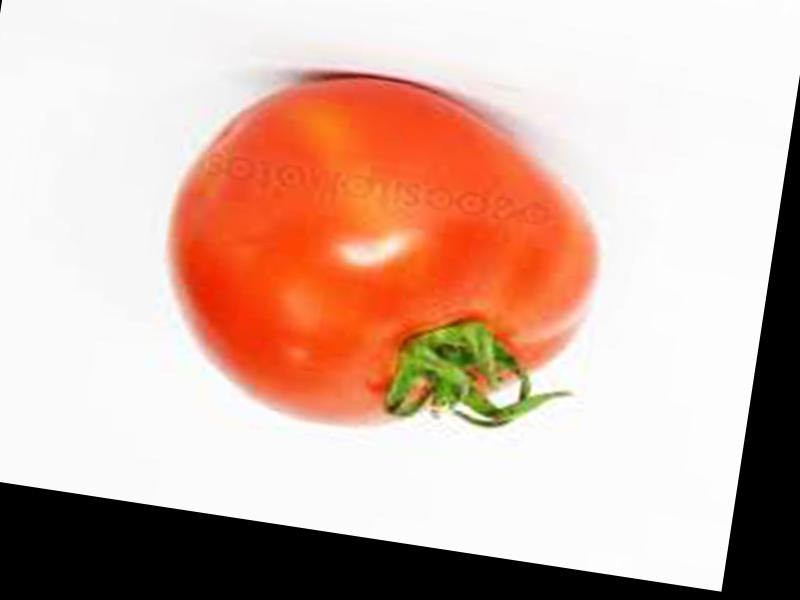Tomato: (144, 51, 620, 466)
